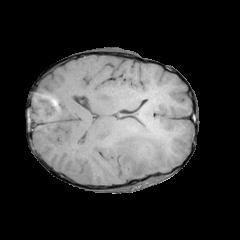glioma: (108, 124, 169, 177)
